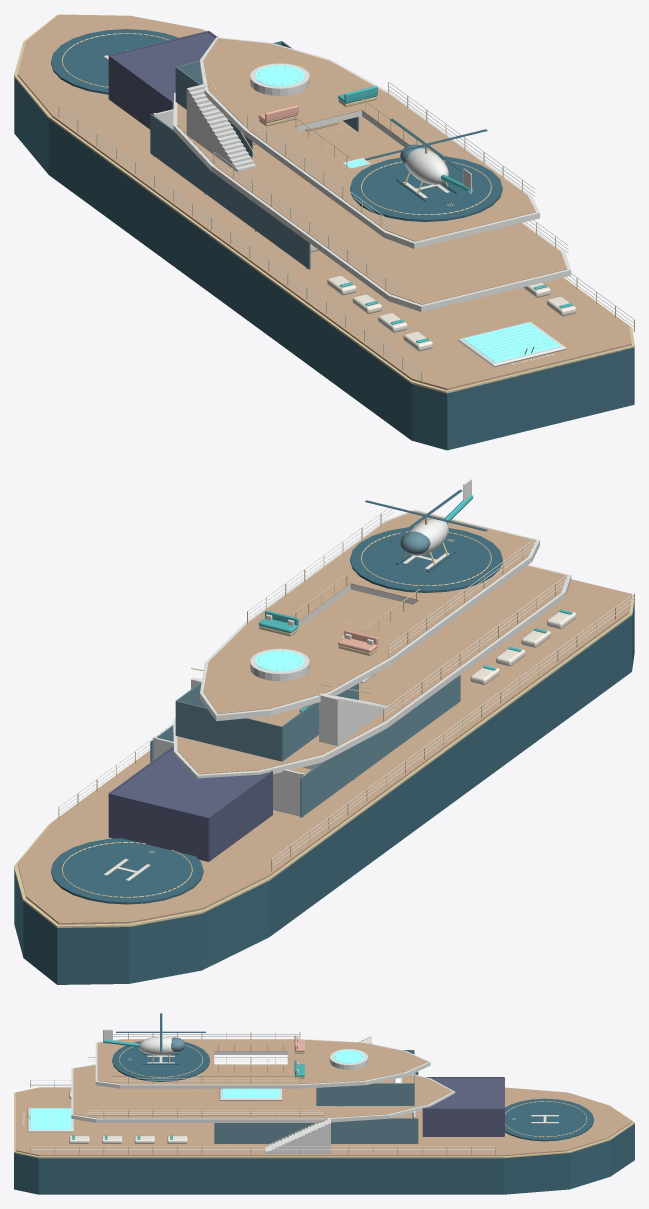
The model's file is elsewhere.glb.
3 views of the same model, one above another, from view 1: azimuth 30°, elevation 25°; view 2: azimuth 150°, elevation 25°; view 3: azimuth 270°, elevation 25° (orthographic). The views are drawn at different scales.
Visible parts, largest first — view 1: Yacht_Honey_teak, Yacht_Midnight_hull, Yacht_Pearl_ceramic, Yacht_Smoked_blue_glazing, Yacht_Champagne_brass, Yacht_Night_library, Yacht_Luminous_pool_mosaic, Yacht_Warm_linen, Helicopter pearl fuselage, Yacht_Lagoon_upholstery; view 2: Yacht_Honey_teak, Yacht_Midnight_hull, Yacht_Pearl_ceramic, Yacht_Night_library, Yacht_Smoked_blue_glazing, Yacht_Champagne_brass, Yacht_Warm_linen, Helicopter pearl fuselage, Yacht_Luminous_pool_mosaic, Yacht_Lagoon_upholstery; view 3: Yacht_Honey_teak, Yacht_Midnight_hull, Yacht_Pearl_ceramic, Yacht_Smoked_blue_glazing, Yacht_Night_library, Yacht_Champagne_brass, Yacht_Luminous_pool_mosaic, Yacht_Warm_linen, Helicopter pearl fuselage.
Part boxes in pixels (box(x1,y1,x2,y2)): Yacht_Honey_teak: box(17, 14, 631, 390); Yacht_Midnight_hull: box(14, 29, 634, 450); Yacht_Pearl_ceramic: box(59, 37, 634, 378); Yacht_Smoked_blue_glazing: box(150, 41, 358, 269); Yacht_Champagne_brass: box(14, 15, 634, 393); Yacht_Night_library: box(108, 31, 217, 129); Yacht_Luminous_pool_mosaic: box(255, 65, 560, 362); Yacht_Warm_linen: box(104, 50, 576, 364); Helicopter pearl fuselage: box(405, 148, 471, 194); Yacht_Lagoon_upholstery: box(338, 86, 572, 343); Yacht_Honey_teak: box(17, 510, 631, 924); Yacht_Midnight_hull: box(14, 527, 634, 984); Yacht_Pearl_ceramic: box(59, 504, 634, 866); Yacht_Night_library: box(108, 746, 272, 861); Yacht_Smoked_blue_glazing: box(150, 675, 460, 817); Yacht_Champagne_brass: box(14, 514, 634, 927); Yacht_Warm_linen: box(103, 553, 576, 880); Helicopter pearl fuselage: box(409, 479, 471, 555); Yacht_Luminous_pool_mosaic: box(255, 650, 304, 671); Yacht_Lagoon_upholstery: box(258, 609, 572, 712); Yacht_Honey_teak: box(15, 1039, 632, 1156); Yacht_Midnight_hull: box(14, 1041, 634, 1194); Yacht_Pearl_ceramic: box(27, 1031, 495, 1153); Yacht_Smoked_blue_glazing: box(214, 1050, 418, 1143); Yacht_Night_library: box(422, 1077, 504, 1136); Yacht_Champagne_brass: box(14, 1032, 634, 1158); Yacht_Luminous_pool_mosaic: box(30, 1050, 364, 1129); Yacht_Warm_linen: box(22, 1037, 558, 1143); Helicopter pearl fuselage: box(103, 1029, 178, 1055).
Bounding box in the file's own units: 20.1 × 17.6 × 76.
